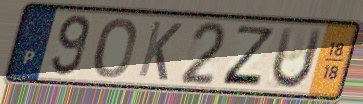2: (178, 20, 228, 87)
9: (50, 13, 92, 78)
K: (135, 18, 185, 83)
O: (92, 16, 138, 80)
U: (269, 24, 326, 92)
Z: (219, 23, 278, 88)
